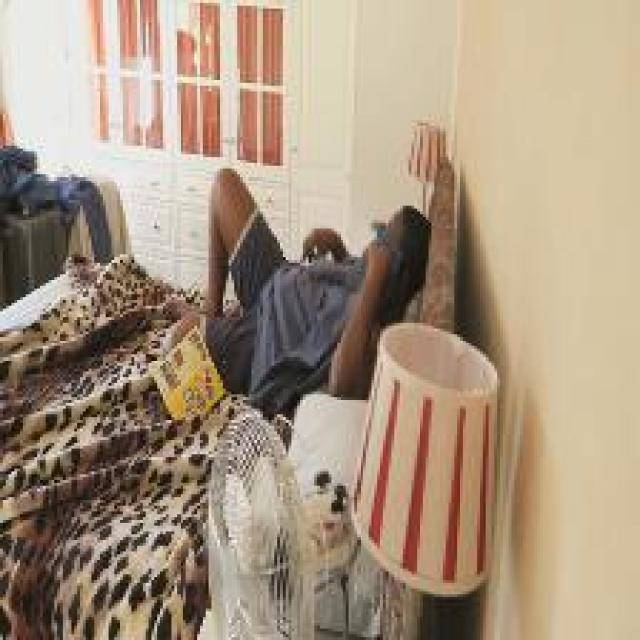other: (70, 0, 276, 163), (144, 328, 228, 419)
